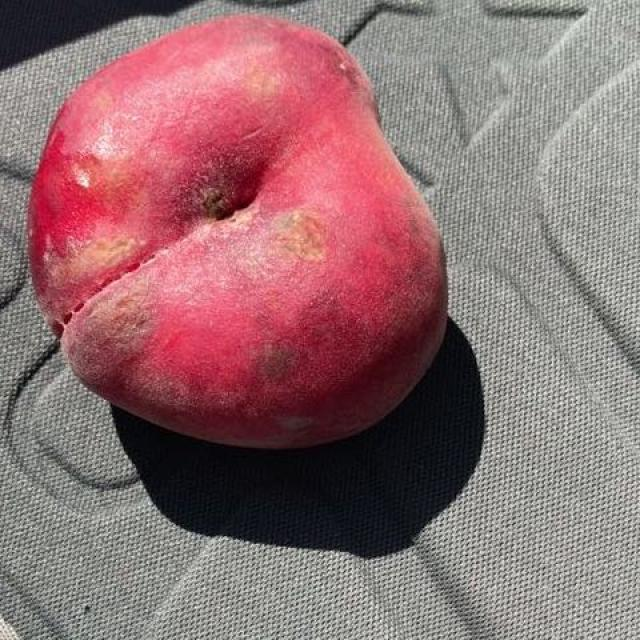peach: (39, 18, 438, 445)
